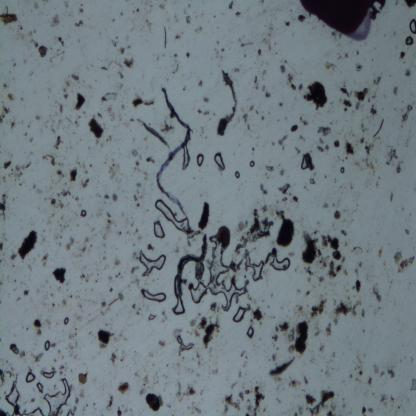Air bubble: (193, 238, 247, 310), (152, 200, 190, 235), (43, 377, 71, 415), (138, 249, 167, 276), (243, 251, 266, 282), (266, 251, 292, 272), (4, 381, 21, 407), (140, 288, 167, 304), (214, 226, 231, 249), (144, 392, 160, 412), (176, 336, 194, 352), (232, 306, 247, 324), (172, 297, 186, 316), (153, 220, 166, 240), (181, 147, 191, 171), (213, 152, 226, 170), (24, 406, 45, 415), (195, 152, 205, 168), (299, 157, 308, 171), (43, 338, 52, 352), (25, 372, 37, 382), (409, 18, 416, 34), (405, 36, 415, 46), (246, 327, 255, 338), (42, 372, 55, 379), (80, 208, 88, 218), (62, 317, 70, 326), (38, 384, 44, 396), (234, 170, 241, 180), (334, 210, 341, 220), (338, 166, 346, 174), (248, 160, 256, 168), (307, 178, 315, 183)
Background material: (236, 205, 274, 243), (300, 232, 329, 276), (190, 312, 223, 347), (275, 206, 297, 247), (305, 386, 334, 415), (303, 78, 329, 110), (357, 133, 378, 172), (329, 237, 347, 279), (18, 228, 40, 262), (2, 160, 31, 185), (288, 320, 308, 353), (393, 247, 415, 275), (330, 301, 366, 318), (268, 356, 297, 377), (108, 104, 133, 128), (348, 349, 365, 382), (101, 292, 124, 313), (101, 210, 113, 250), (174, 379, 196, 400), (87, 116, 106, 140), (63, 74, 79, 102), (322, 348, 338, 376), (43, 114, 66, 133), (338, 85, 353, 112), (252, 383, 265, 414), (47, 45, 67, 65), (309, 296, 326, 319), (109, 160, 125, 183), (0, 6, 18, 26), (96, 327, 112, 349), (52, 264, 67, 287), (384, 145, 400, 164), (74, 154, 89, 174), (263, 27, 277, 48), (225, 393, 242, 410), (140, 372, 153, 394), (132, 96, 157, 107), (400, 103, 413, 124), (380, 390, 395, 408), (56, 218, 68, 240), (74, 91, 86, 113), (342, 140, 355, 160), (280, 64, 293, 84), (160, 120, 176, 136), (372, 116, 384, 136), (9, 343, 25, 358), (131, 190, 144, 208), (0, 194, 8, 223), (305, 152, 316, 173), (0, 103, 10, 126), (372, 283, 382, 306), (0, 363, 12, 382), (323, 58, 338, 73), (317, 123, 333, 137), (100, 90, 118, 102), (40, 154, 57, 166), (288, 378, 302, 392), (290, 79, 304, 93), (118, 380, 131, 394), (123, 57, 137, 70), (60, 187, 74, 200), (67, 168, 79, 183), (259, 182, 270, 198), (308, 320, 319, 336), (51, 196, 64, 209), (292, 305, 305, 318), (277, 181, 290, 194), (143, 19, 155, 33), (374, 362, 386, 376), (360, 403, 375, 414), (32, 320, 42, 336), (369, 74, 382, 86), (79, 272, 92, 284), (329, 29, 340, 43), (50, 13, 60, 28), (162, 26, 168, 51), (77, 371, 89, 383), (353, 278, 362, 294), (278, 133, 290, 145), (244, 112, 252, 130), (170, 326, 183, 337), (58, 362, 69, 375), (353, 243, 364, 256), (324, 322, 334, 336), (72, 115, 82, 129), (109, 352, 119, 366), (275, 321, 287, 332), (289, 122, 300, 134), (238, 348, 249, 360), (81, 232, 91, 245), (6, 90, 16, 103), (358, 119, 368, 132), (354, 60, 364, 73), (67, 327, 77, 340), (42, 252, 50, 268), (56, 34, 65, 48), (29, 31, 38, 45), (116, 69, 125, 83), (387, 366, 396, 380), (197, 107, 211, 116), (353, 263, 364, 274), (110, 192, 120, 204), (106, 395, 114, 410), (19, 25, 27, 40), (270, 331, 280, 343), (127, 279, 137, 291), (160, 309, 168, 324), (333, 137, 341, 152), (404, 0, 416, 10), (264, 164, 278, 172), (54, 166, 65, 176), (209, 303, 220, 313), (109, 332, 119, 343), (352, 100, 363, 110), (297, 12, 308, 22), (293, 406, 304, 416), (410, 376, 416, 394), (252, 77, 261, 89), (54, 136, 61, 151), (240, 41, 255, 48), (82, 399, 88, 416), (73, 313, 83, 323), (156, 339, 167, 348), (194, 351, 201, 365), (36, 184, 44, 196), (130, 147, 138, 159), (238, 390, 246, 402), (370, 105, 378, 117), (245, 403, 252, 416), (66, 239, 75, 249), (74, 20, 84, 29), (194, 404, 203, 414), (338, 228, 347, 238), (153, 368, 159, 383), (68, 342, 77, 352), (60, 296, 68, 307), (321, 198, 329, 209), (252, 48, 263, 56), (34, 354, 45, 362), (9, 253, 17, 264), (175, 31, 183, 41), (145, 156, 155, 164), (131, 264, 139, 274), (196, 24, 204, 34), (147, 312, 157, 320), (395, 164, 403, 174), (362, 85, 370, 95), (0, 238, 5, 254), (172, 64, 180, 74), (209, 368, 219, 376), (366, 373, 372, 386), (114, 271, 123, 279), (132, 250, 138, 262), (33, 112, 42, 120), (299, 118, 308, 126), (26, 262, 34, 271), (115, 9, 124, 17), (303, 374, 309, 386), (120, 45, 126, 57), (228, 1, 235, 11), (399, 50, 406, 60), (247, 294, 254, 304), (230, 383, 240, 390), (274, 99, 284, 106), (264, 89, 271, 99), (115, 256, 121, 267), (10, 119, 16, 130), (103, 191, 109, 202), (388, 192, 394, 203), (80, 246, 88, 254), (81, 180, 89, 188), (172, 52, 180, 60), (316, 146, 324, 154), (202, 95, 210, 103), (244, 388, 252, 396), (135, 306, 142, 315), (49, 341, 58, 348), (146, 245, 156, 251), (78, 4, 84, 14), (284, 20, 294, 26), (80, 388, 85, 400), (72, 403, 78, 413), (133, 159, 140, 167), (116, 228, 123, 236), (158, 1, 166, 8), (296, 146, 303, 154), (173, 360, 181, 367), (196, 81, 204, 88), (298, 135, 306, 142), (318, 275, 326, 282), (254, 107, 260, 116), (377, 249, 383, 258), (57, 105, 63, 114), (344, 51, 350, 60), (68, 294, 75, 301), (234, 67, 240, 75), (32, 2, 38, 10), (136, 181, 142, 189), (234, 12, 242, 18), (78, 302, 84, 310), (375, 182, 381, 190), (279, 169, 285, 177), (52, 381, 58, 389), (320, 345, 326, 353), (46, 320, 52, 328), (403, 228, 411, 234), (405, 69, 411, 77), (50, 364, 56, 372), (292, 197, 300, 203), (107, 271, 112, 280), (393, 87, 398, 96), (108, 286, 114, 293), (64, 2, 70, 9), (24, 290, 30, 297), (115, 409, 122, 415), (102, 66, 108, 73), (296, 288, 302, 295), (112, 40, 117, 48), (3, 81, 8, 89), (280, 196, 288, 201), (372, 92, 377, 100), (237, 371, 242, 379), (56, 347, 62, 353), (123, 408, 129, 414), (52, 302, 57, 309), (104, 319, 109, 326), (29, 136, 33, 144), (24, 129, 28, 137), (319, 138, 323, 146), (112, 16, 116, 24), (186, 52, 190, 60), (92, 401, 96, 409), (61, 354, 65, 362), (368, 96, 372, 104), (134, 226, 139, 232), (93, 278, 98, 284), (306, 276, 311, 282), (75, 395, 78, 405), (30, 398, 36, 403), (306, 290, 311, 296), (260, 85, 265, 91), (48, 292, 54, 297), (349, 185, 354, 191), (186, 17, 190, 24), (239, 36, 243, 43), (73, 355, 78, 360), (119, 357, 124, 362), (249, 104, 254, 109), (356, 50, 360, 56), (12, 62, 18, 66), (221, 46, 225, 52), (326, 144, 329, 151), (48, 88, 52, 93), (90, 162, 94, 167), (262, 69, 266, 74), (131, 303, 135, 308), (13, 278, 18, 282), (261, 116, 265, 121), (15, 297, 19, 302), (59, 241, 62, 247), (88, 330, 91, 336), (137, 4, 139, 12), (151, 362, 155, 366), (166, 364, 170, 368), (53, 358, 57, 362), (196, 373, 200, 377), (27, 125, 30, 130), (96, 274, 100, 277)
Cellulose filter fibre: (176, 234, 208, 299), (140, 120, 172, 153), (224, 70, 238, 127)
Cotton: (156, 88, 192, 220)
Diatom: (251, 307, 264, 321), (38, 45, 48, 59), (356, 92, 366, 101)
Pen: (298, 1, 386, 44)
